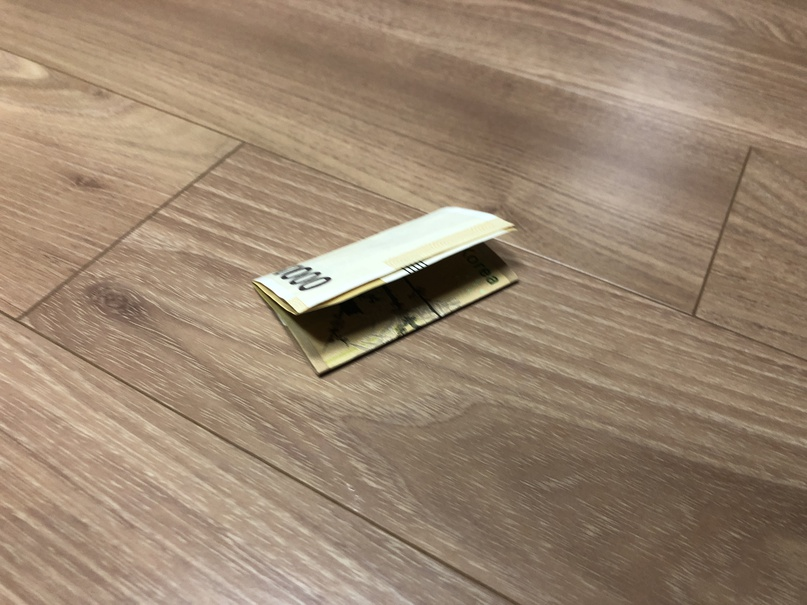50000won: (252, 207, 518, 375)
